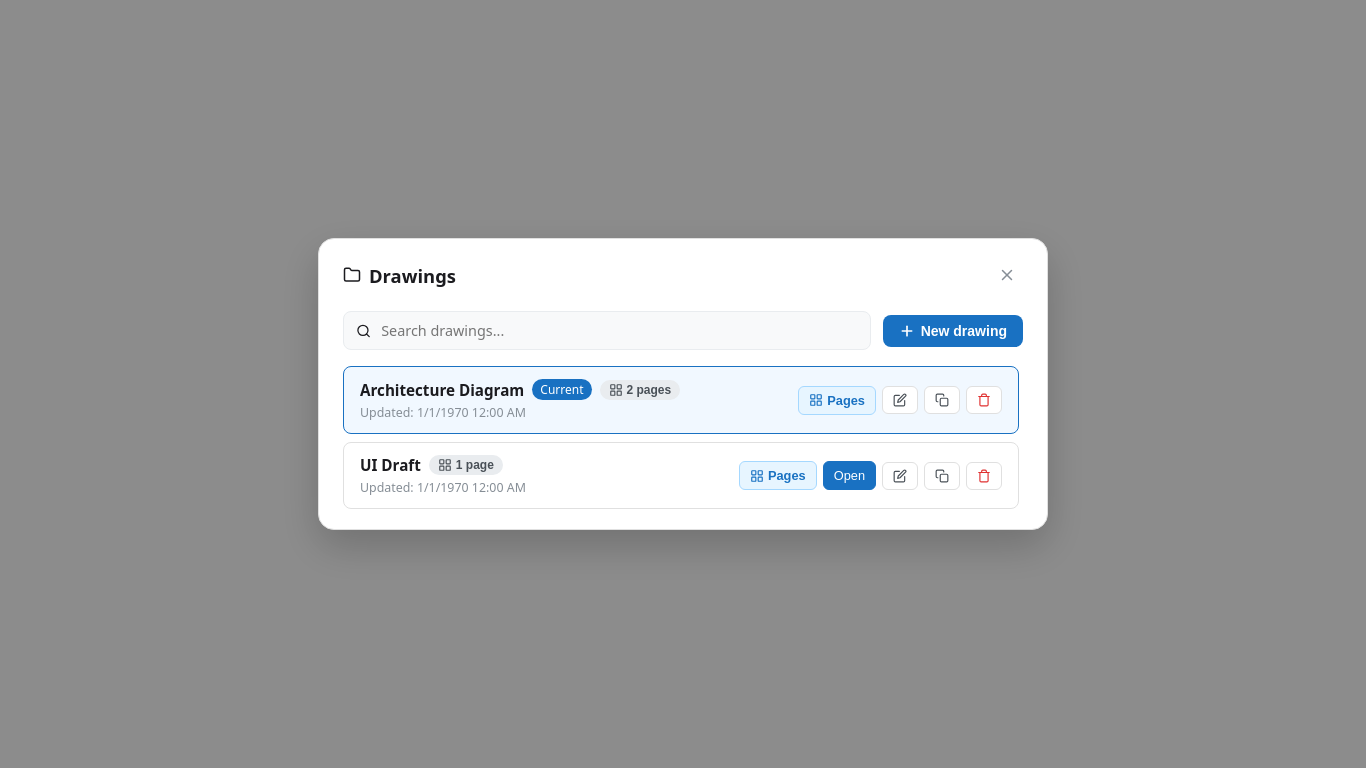
Test: MultiPage UI Components › should open DocumentManagerModal when modal is open and filter results
Expected: the text "Drawings" is shown, 369,262 -> 456,288
Expected: the text "UI Draft" is shown, 360,455 -> 421,475
Type "Architecture" into the field with placeholder "Search drawings...".
click(618, 330); type("Architecture")  # box 379,320 -> 858,341
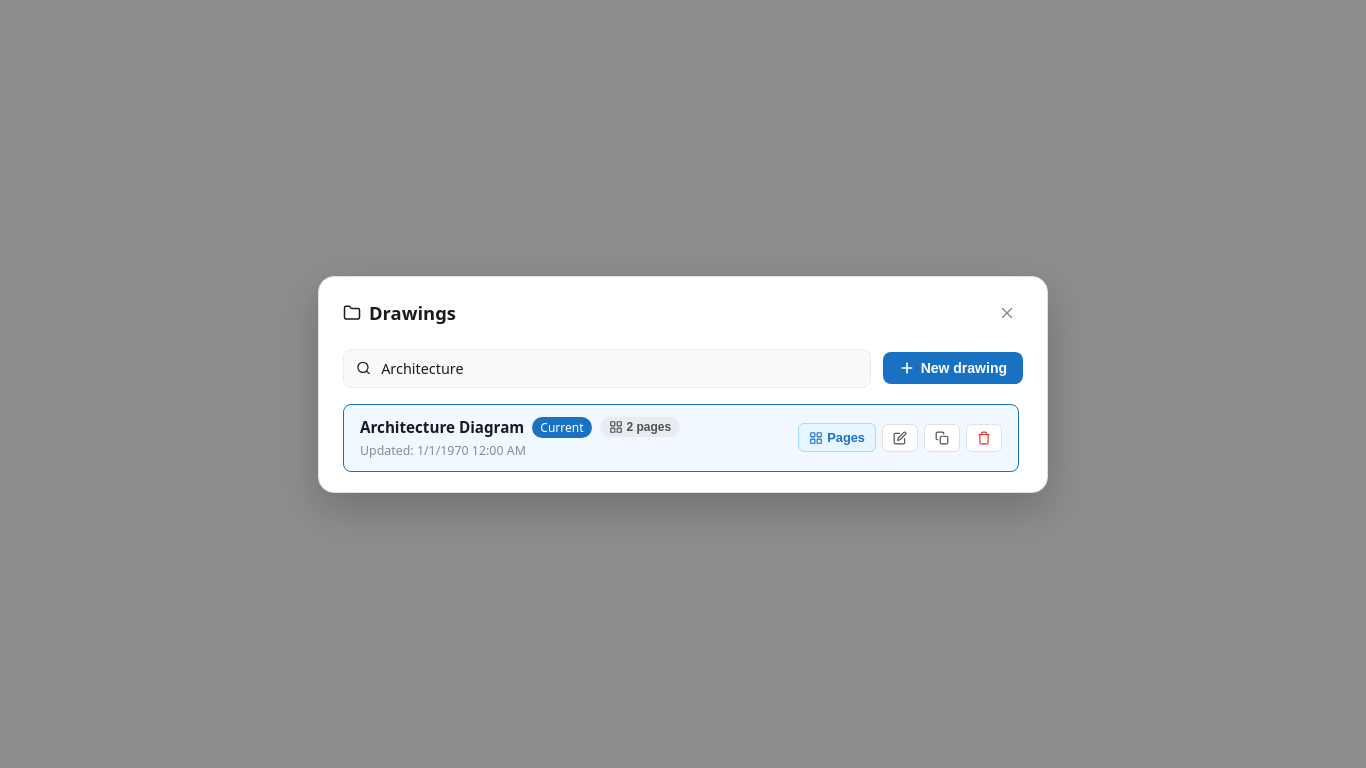
Expected: the text "Architecture Diagram" is shown, 360,417 -> 524,437
Expected: the text "UI Draft" is gone
